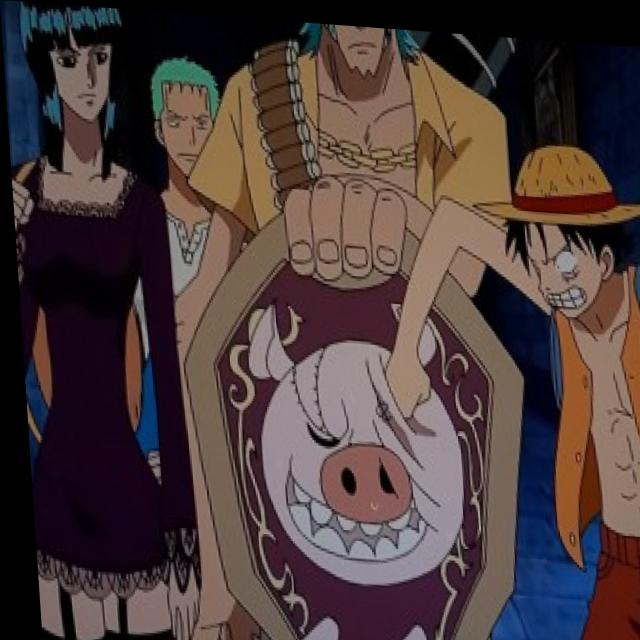Franky: (294, 17, 431, 112)
Luffy: (464, 129, 640, 330)
NicoRobin: (0, 0, 141, 176)
Zoro: (144, 51, 228, 186)
